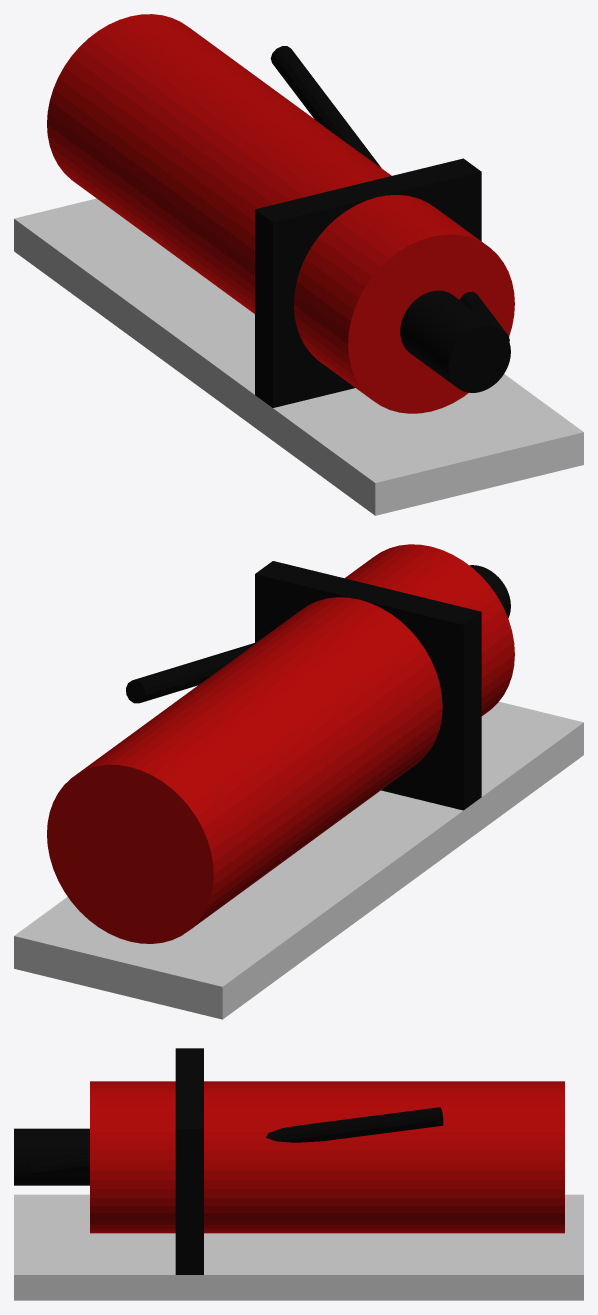
Rendered from extinguisher_present.obj.
The picture shows the model from 3 angles, top to bottom: view 1: azimuth 30°, elevation 25°; view 2: azimuth 150°, elevation 25°; view 3: azimuth 270°, elevation 25°; orthographic projection. The views are drawn at different scales.
Parts seen in each view (by area): view 1: extinguisher_present; view 2: extinguisher_present; view 3: extinguisher_present.
Boxes of the visible parts, x1,y1,x2,y2 form: extinguisher_present: (14, 14, 583, 515); extinguisher_present: (14, 544, 583, 1019); extinguisher_present: (14, 1048, 583, 1300).
Bounding box in the file's own units: 0.2 × 0.2098 × 0.6.
